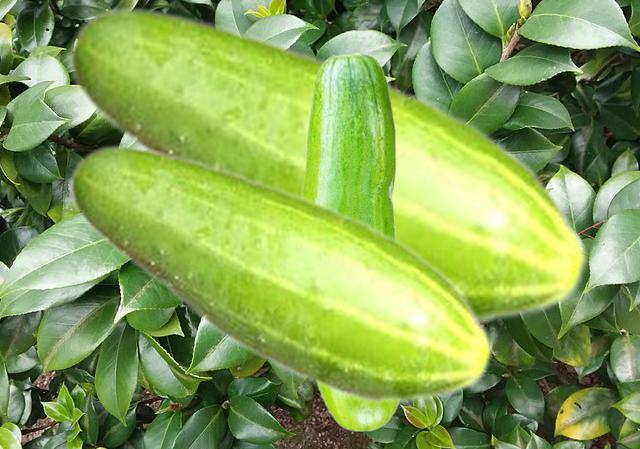cucumber: (67, 5, 589, 326), (68, 143, 494, 406), (301, 52, 399, 431)
